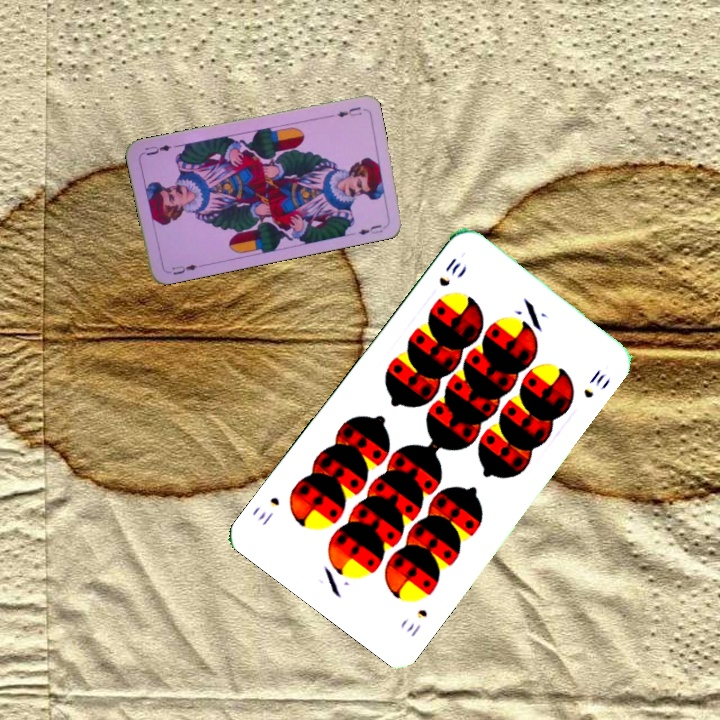EU: (167, 260, 204, 277), (333, 103, 364, 120)
S10: (435, 253, 464, 290), (402, 605, 430, 640)
